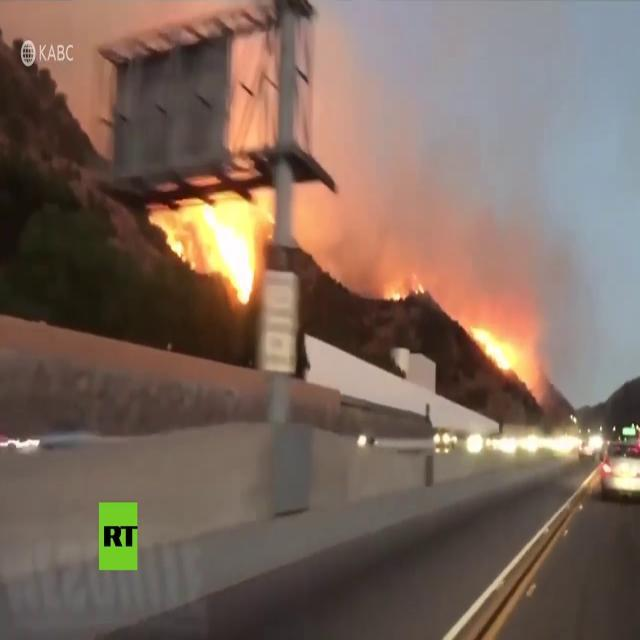Fire: (160, 202, 258, 302), (470, 319, 522, 374), (380, 279, 403, 301), (413, 284, 424, 298)
Smoke: (274, 5, 586, 283)
